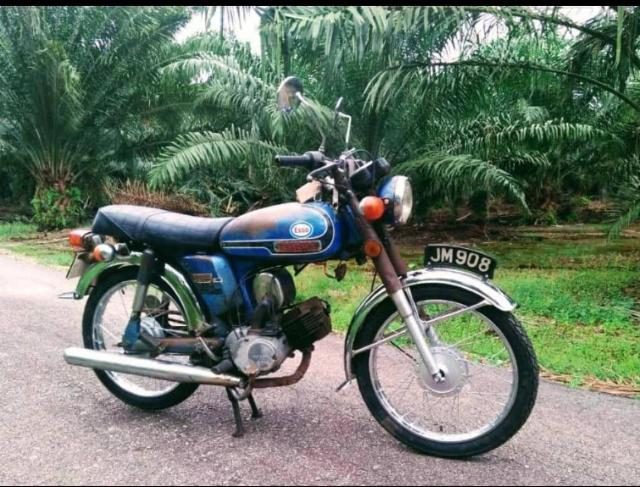License_Plate: (424, 245, 498, 281)
motorcycle: (60, 80, 541, 461)
